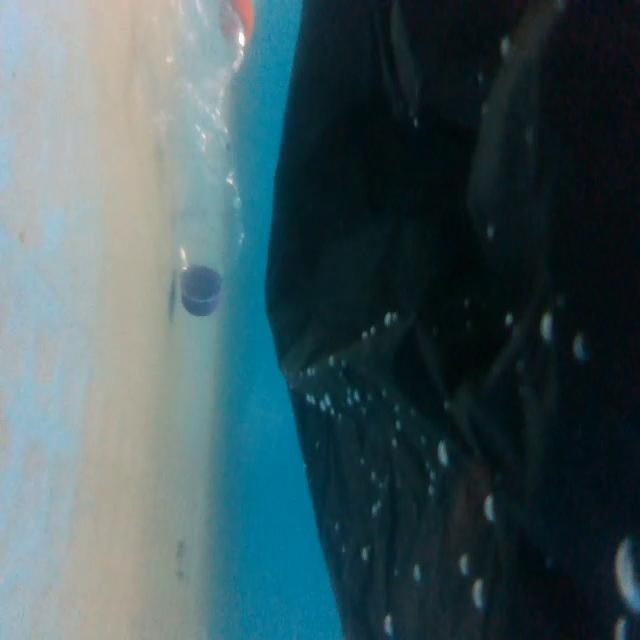plastic bottle: (266, 5, 640, 640), (146, 2, 254, 320)
